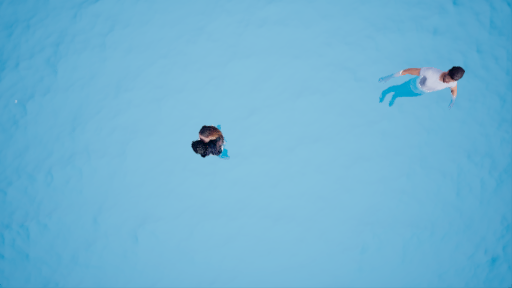person: (378, 63, 468, 114), (186, 122, 231, 164)
